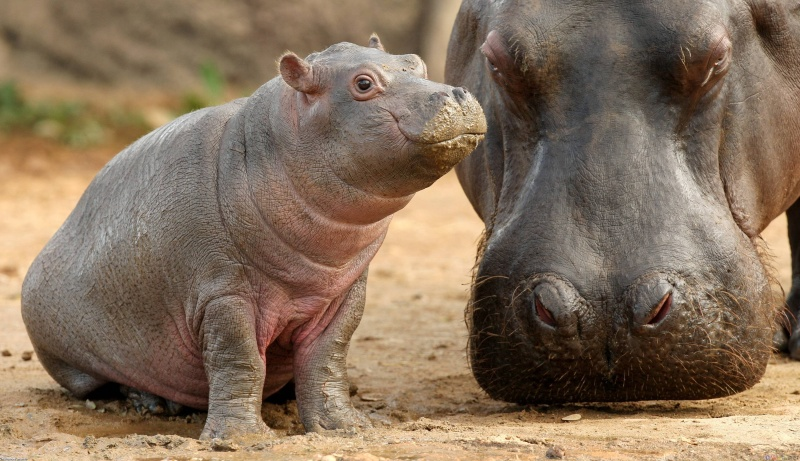hipopotamo: (22, 29, 481, 441), (436, 0, 799, 407)
